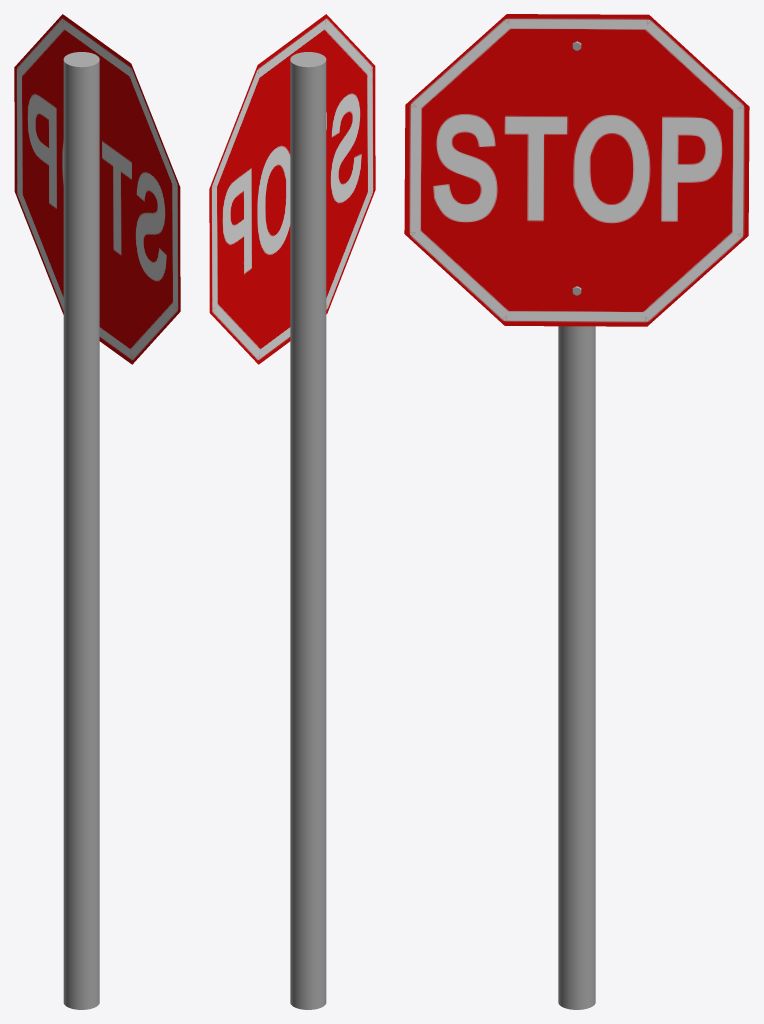
Rendered from stopsign3.glb.
3 renders of one model, left to right at view 1: azimuth 30°, elevation 25°; view 2: azimuth 150°, elevation 25°; view 3: azimuth 270°, elevation 25°, orthographic. The views are drawn at different scales.
Parts seen in each view (by area): view 1: Cylinder, Cylinder.002; view 2: Cylinder, Cylinder.002; view 3: Cylinder.002, Cylinder.
Boxes of the visible parts, <box> form: Cylinder: <box>63,52,99,1009</box>; Cylinder.002: <box>14,14,180,364</box>; Cylinder: <box>290,52,326,1009</box>; Cylinder.002: <box>209,14,375,364</box>; Cylinder.002: <box>404,14,749,326</box>; Cylinder: <box>558,326,595,1009</box>.
Bounding box in the file's own units: 0.2202 × 5.9 × 1.85.
Materials: 2 (1 with a texture image).
